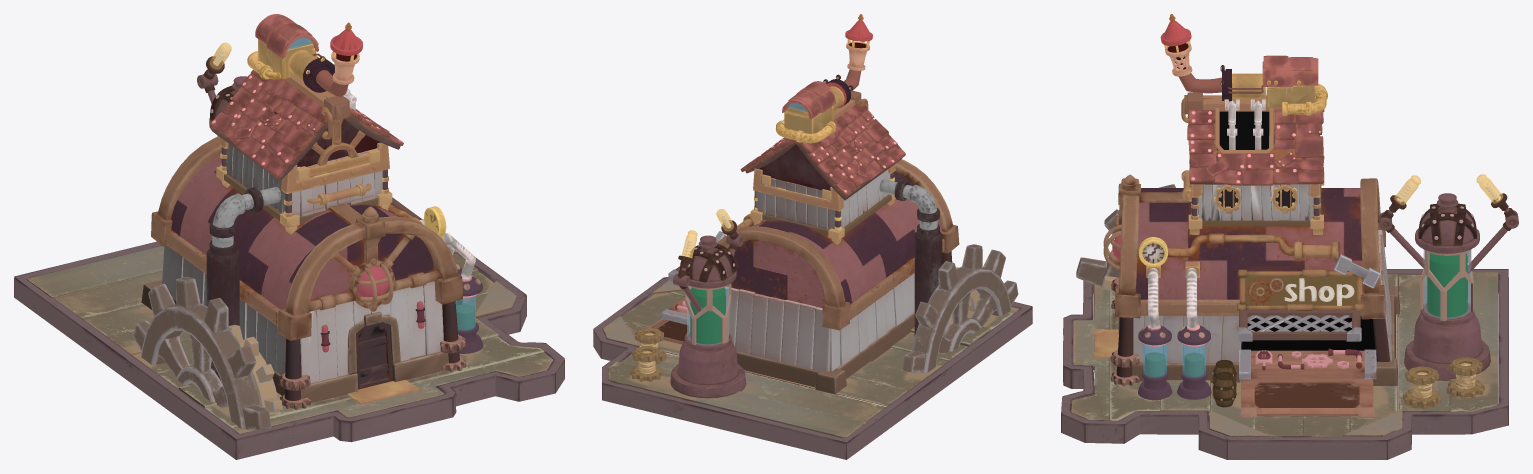
The model's file is shop.glb.
3 renders of one model, left to right at view 1: azimuth 30°, elevation 25°; view 2: azimuth 150°, elevation 25°; view 3: azimuth 270°, elevation 25°, orthographic. The views are drawn at different scales.
Visible parts, largest first — view 1: SET_2_lambert5_0, SET_1_lambert4_0, SET_3_lambert6_0; view 2: SET_1_lambert4_0, SET_3_lambert6_0, SET_2_lambert5_0; view 3: SET_2_lambert5_0, SET_1_lambert4_0, SET_3_lambert6_0.
Part boxes in pixels (x1,y1,x2,y2): SET_2_lambert5_0: (14,136,564,459); SET_1_lambert4_0: (133,14,483,430); SET_3_lambert6_0: (26,144,553,433); SET_1_lambert4_0: (630,14,1018,398); SET_3_lambert6_0: (602,169,1019,437); SET_2_lambert5_0: (593,159,1032,459); SET_2_lambert5_0: (1061,174,1508,459); SET_1_lambert4_0: (1076,14,1518,408); SET_3_lambert6_0: (1071,184,1497,436).
Size of the model in its own units: 0.1543 by 0.1468 by 0.1746.
4 materials, 4 textured.
